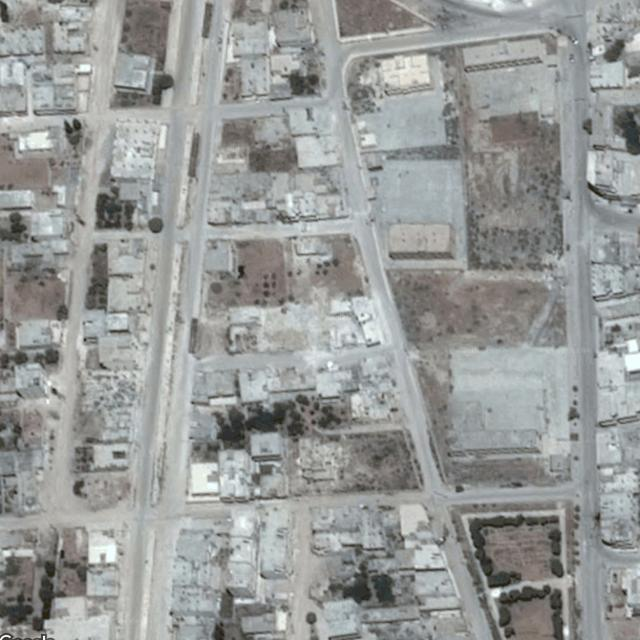damaged_building: (260, 301, 332, 355)
